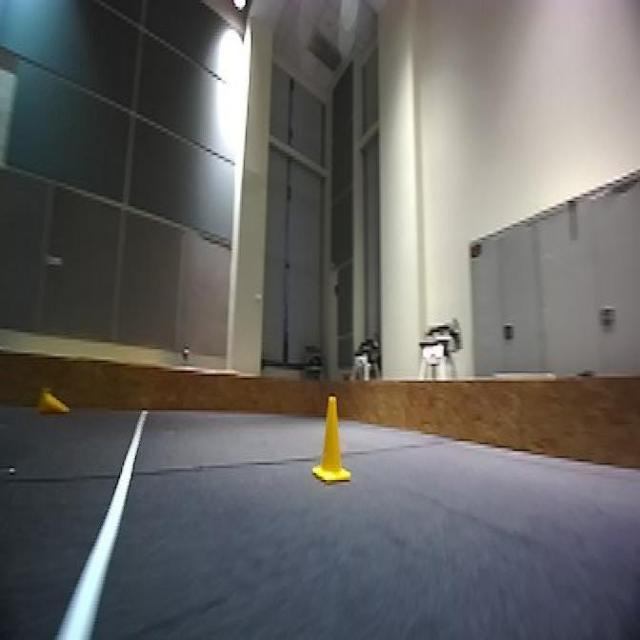frc_cone: (312, 396, 353, 486), (34, 392, 68, 417)
